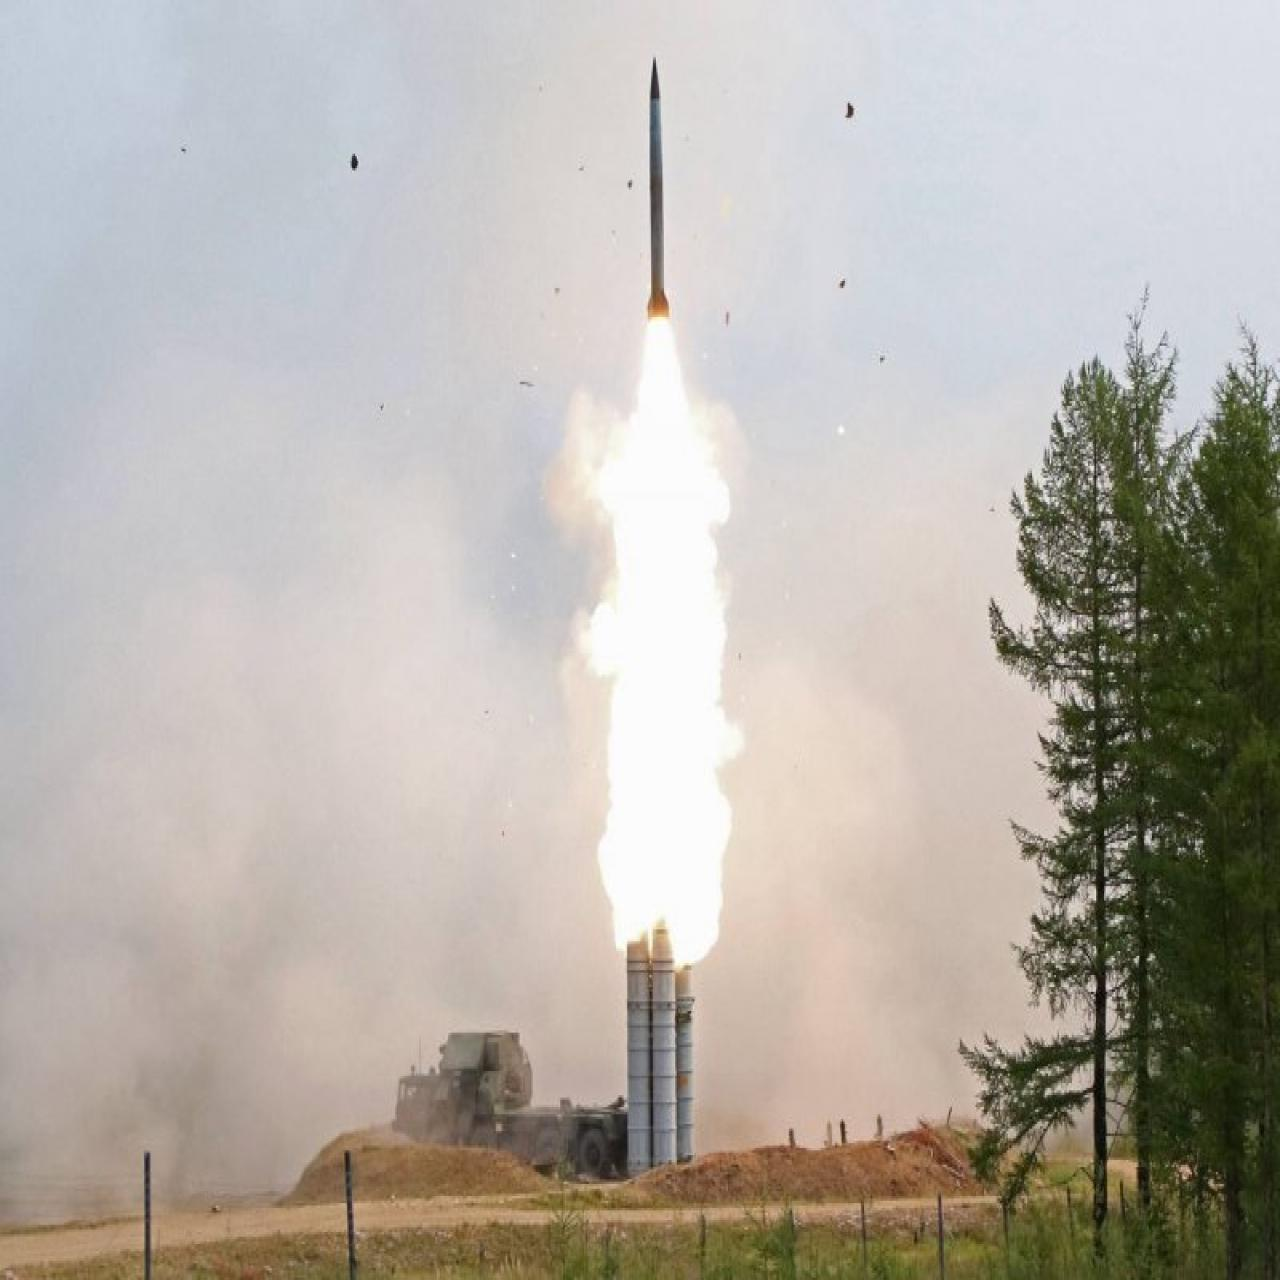MIL_Veh: (396, 915, 699, 1184)
